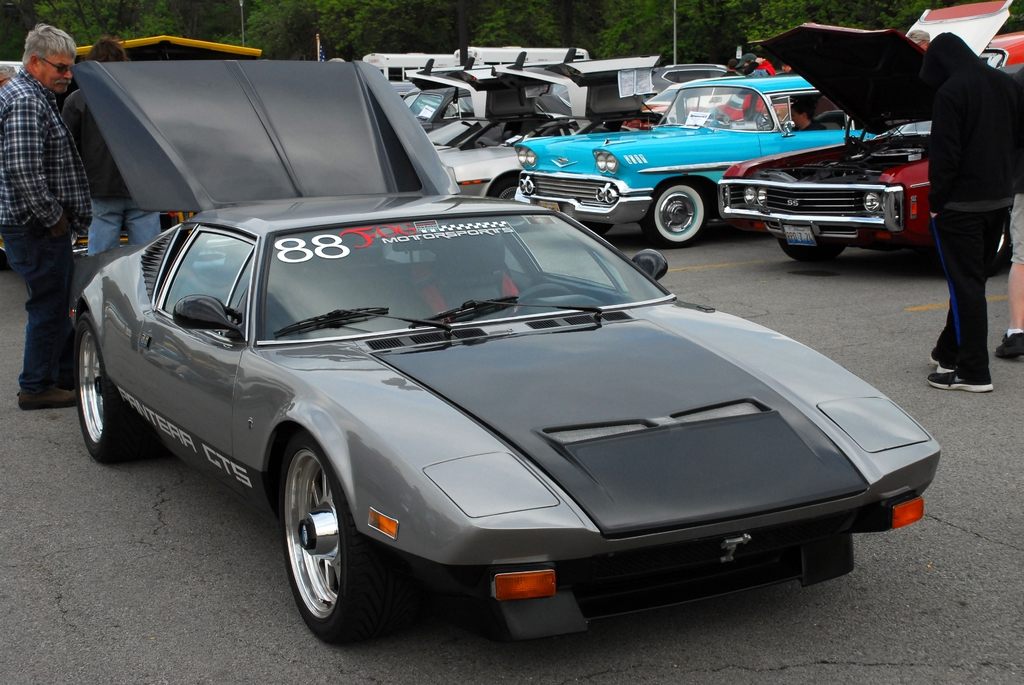Person: (0, 22, 93, 408), (928, 31, 1024, 387), (60, 38, 165, 250), (716, 49, 766, 121), (792, 102, 824, 131)
